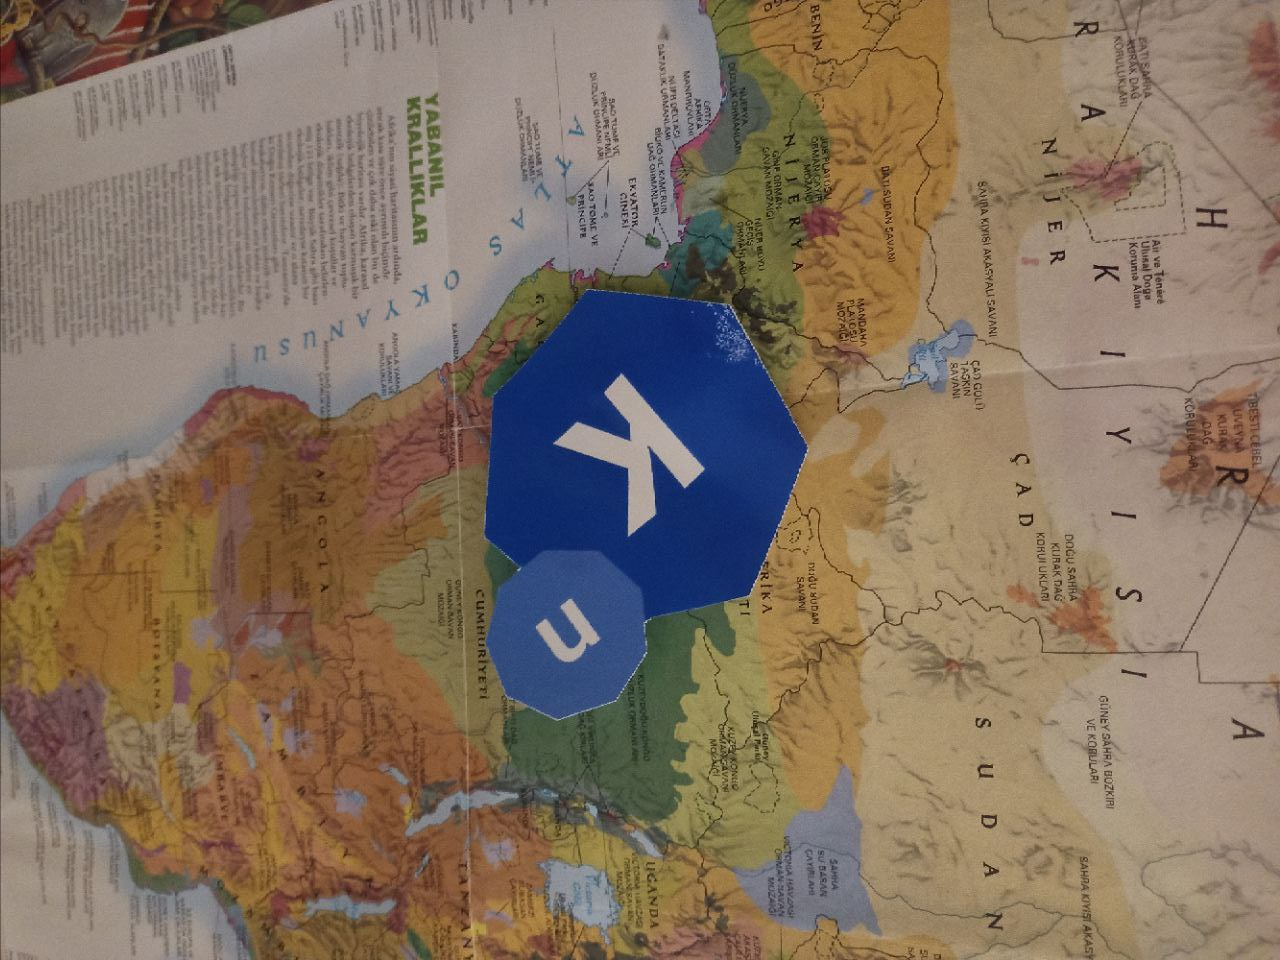knative: (480, 287, 809, 723)
